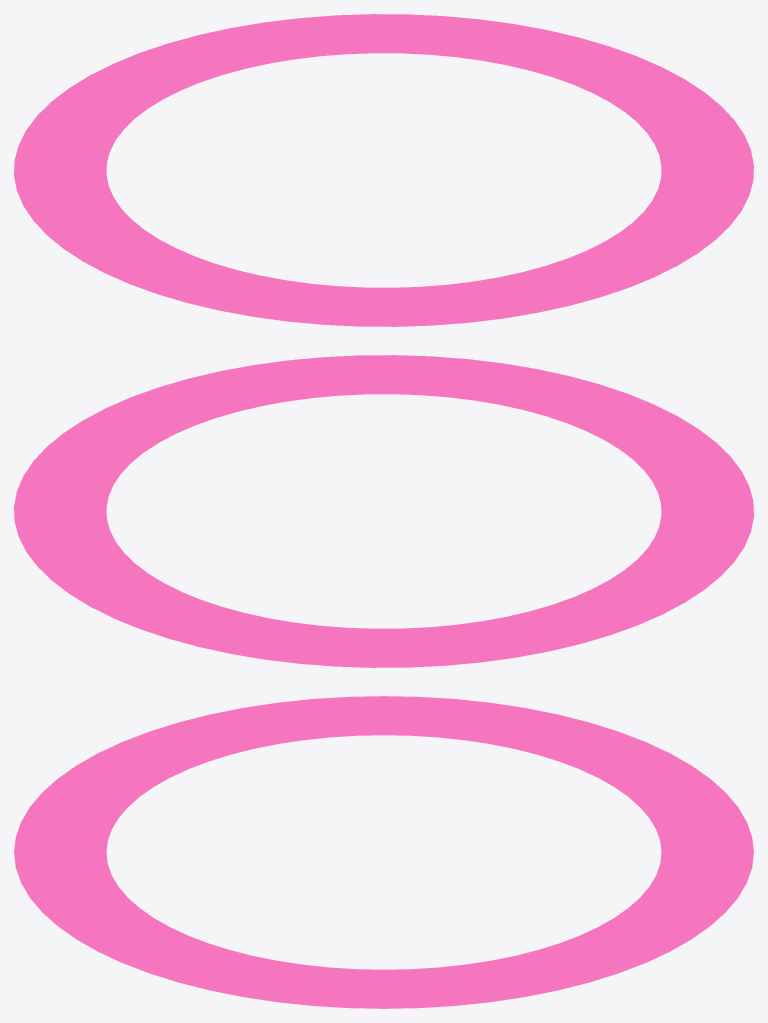
File: cursor.glb
3 views of the same model, one above another, from view 1: azimuth 30°, elevation 25°; view 2: azimuth 150°, elevation 25°; view 3: azimuth 270°, elevation 25° (orthographic).
Parts seen in each view (by area): view 1: Circle; view 2: Circle; view 3: Circle.
Part boxes in pixels (left/top/right/bottom): Circle: left=14, top=14, right=753, bottom=326; Circle: left=14, top=355, right=753, bottom=667; Circle: left=14, top=696, right=753, bottom=1008.
Size of the model in its own units: 2 by 0 by 2.
